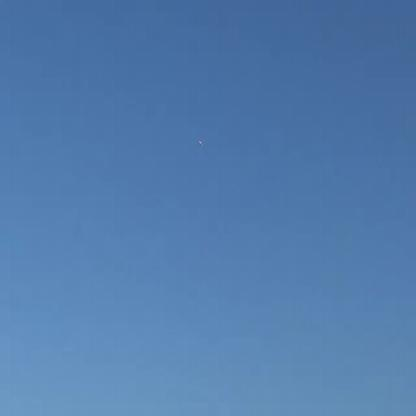CIV_Plane: (194, 134, 206, 150)
